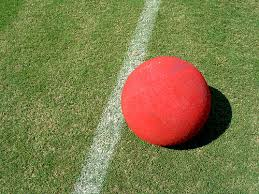red ball: (120, 55, 213, 150)
